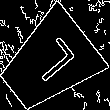L_SW: (20, 35, 77, 91)
